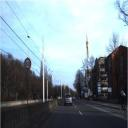speed_limit_60: (24, 58, 32, 70)
